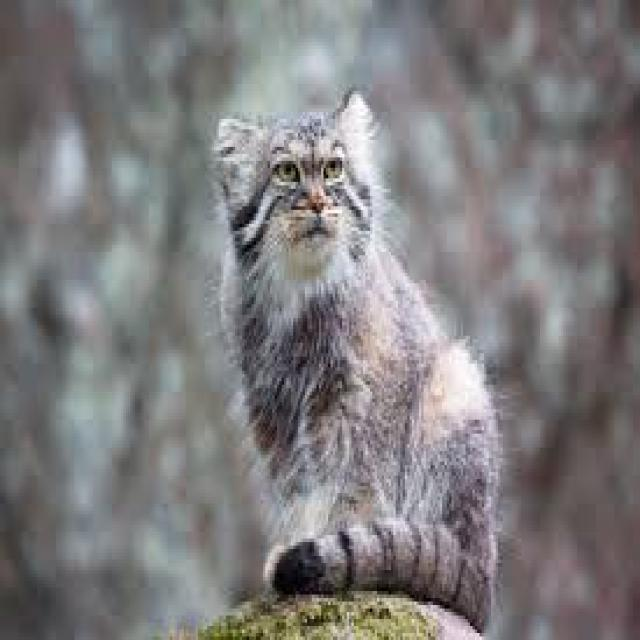cat: (180, 61, 533, 633)
